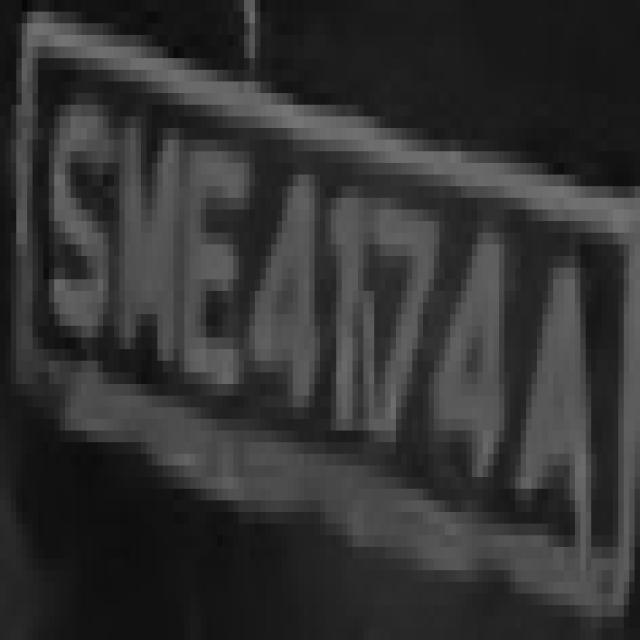1: (326, 163, 380, 512)
4: (440, 175, 516, 535), (244, 140, 325, 453)
7: (369, 140, 439, 488)
A: (515, 174, 602, 558)
E: (179, 128, 249, 407)
M: (125, 82, 195, 396)
S: (32, 70, 114, 384)
